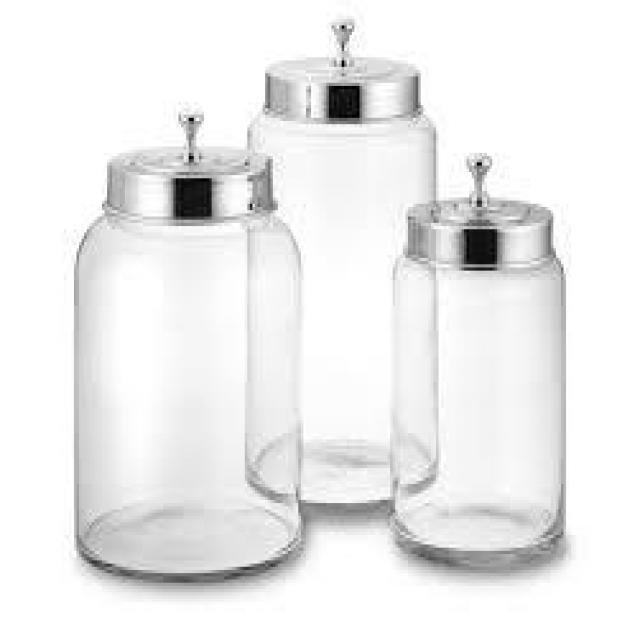non-organic waste: (68, 102, 307, 589)
